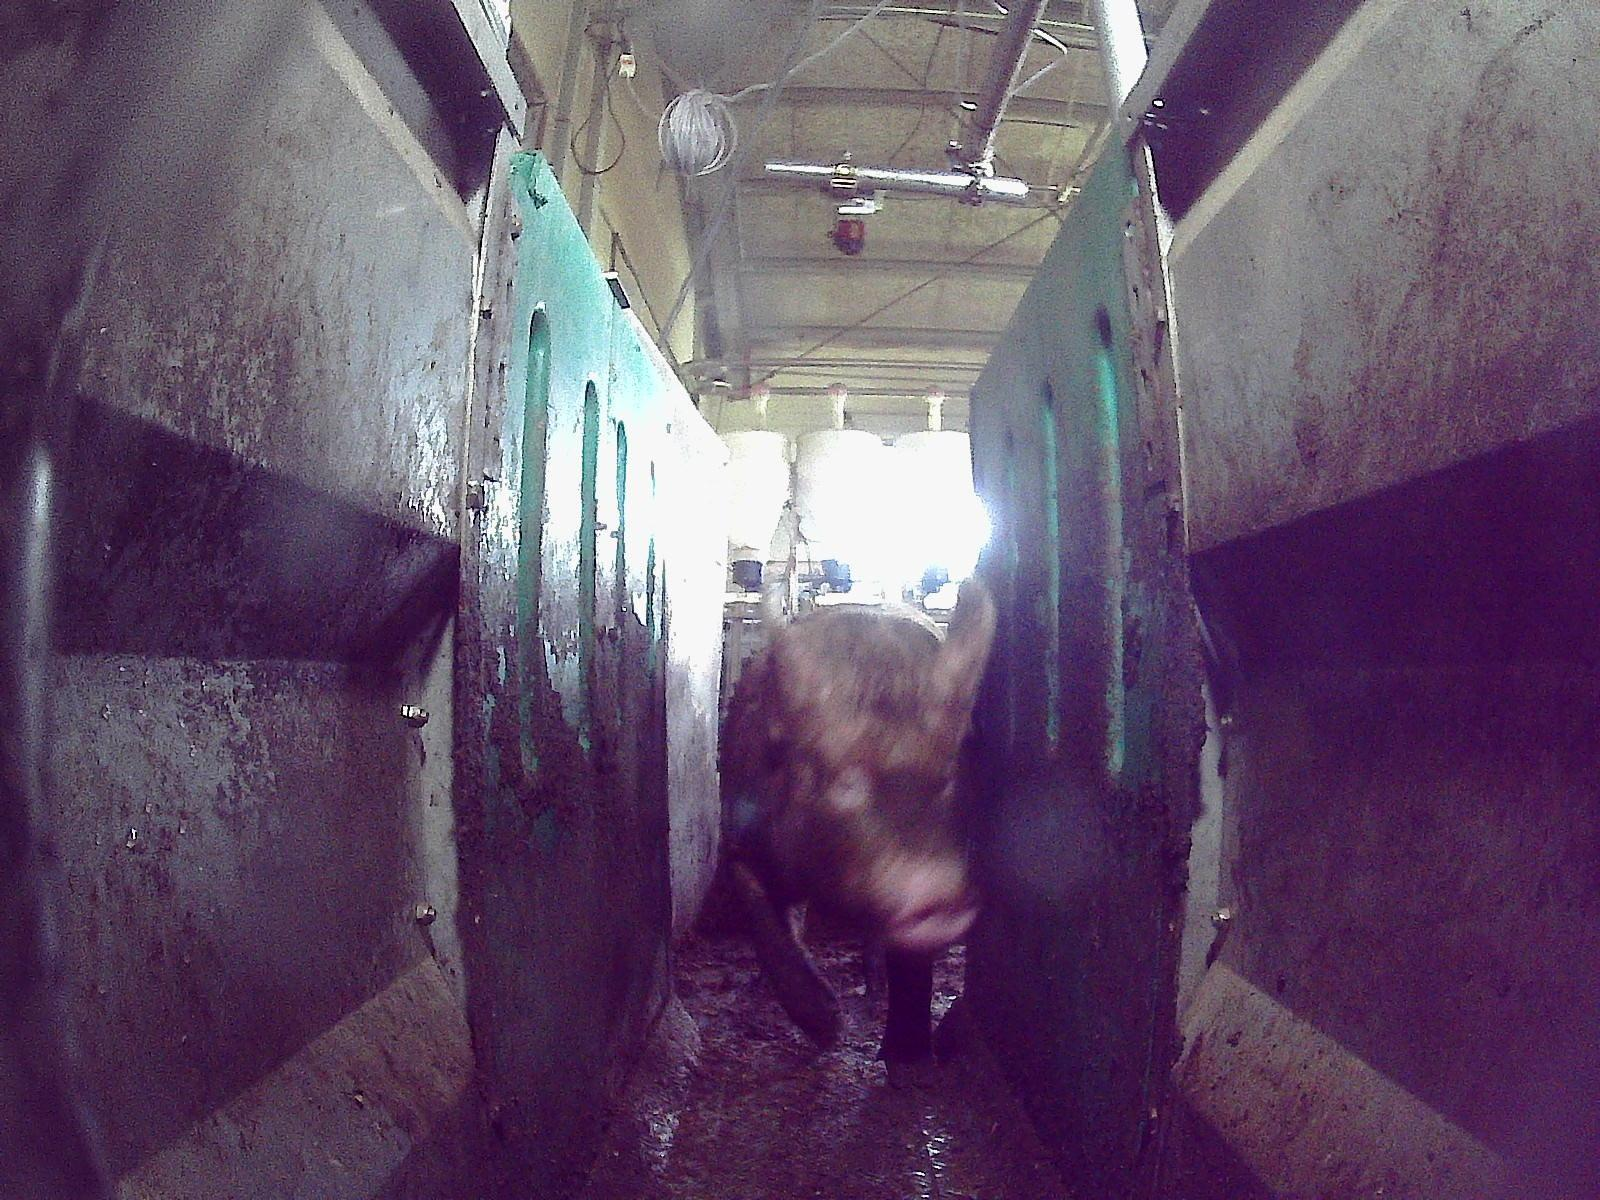Face: (775, 680, 980, 950)
